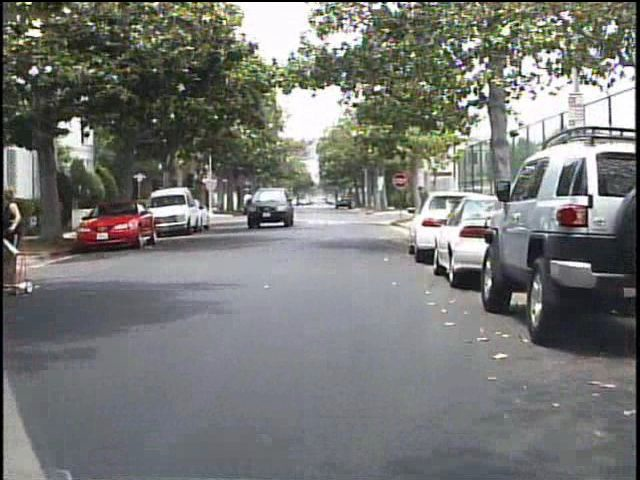person: (4, 184, 35, 297)
